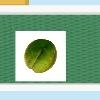ripe: (23, 38, 57, 75)
